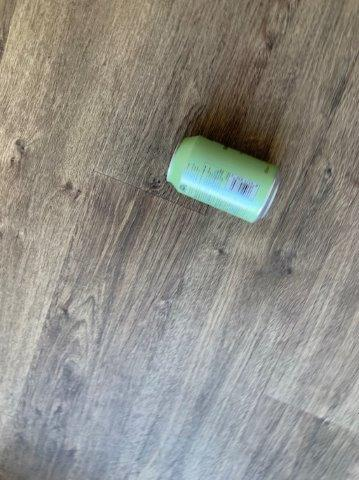kaleng: (167, 136, 281, 222)
